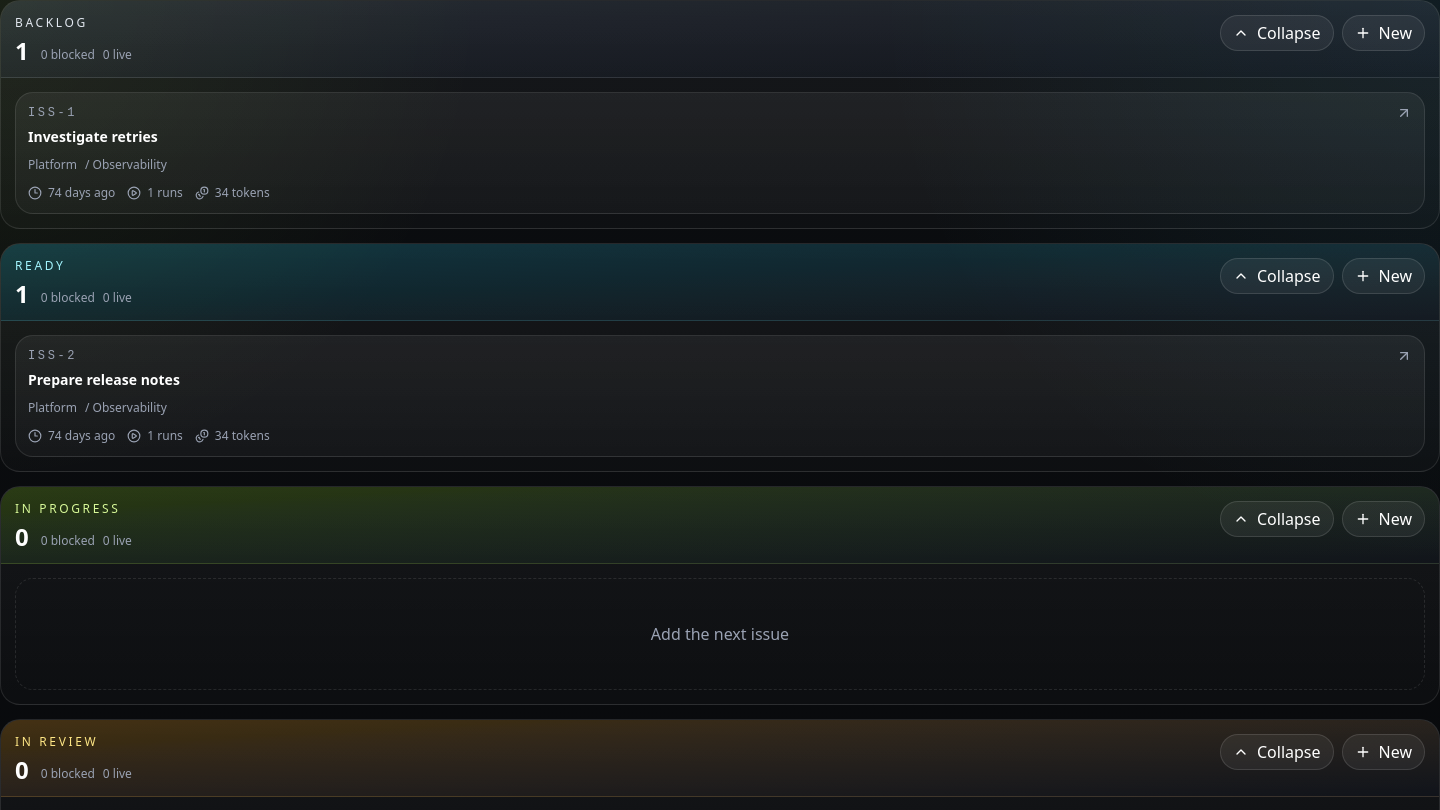
Test: KanbanBoard › collapses and expands grouped status rows independently
Check: the text "Investigate retries" is shown, box [28,127,158,147]
Check: the text "Prepare release notes" is shown, box [28,370,180,390]
Click the button with aria-label "collapse backlog status row" at (1277, 33), box [1220,15,1334,51]
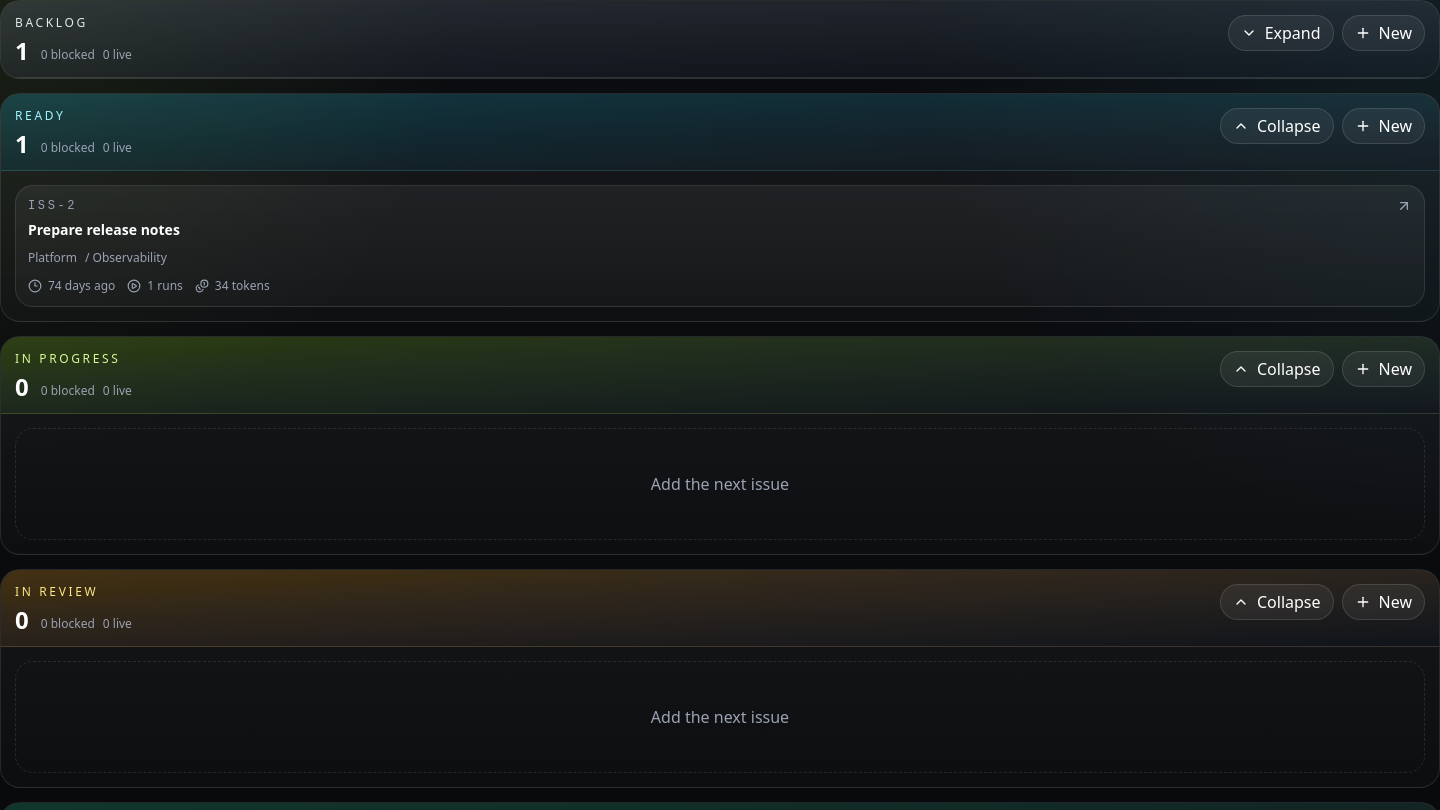
Check: the text "Prepare release notes" is shown, box [28,220,180,240]
Check: the button with aria-label "expand backlog status row" is collapsed
Check: the button "Investigate retries" is gone
Click the button with aria-label "expand backlog status row" at (1281, 33), box [1228,15,1334,51]
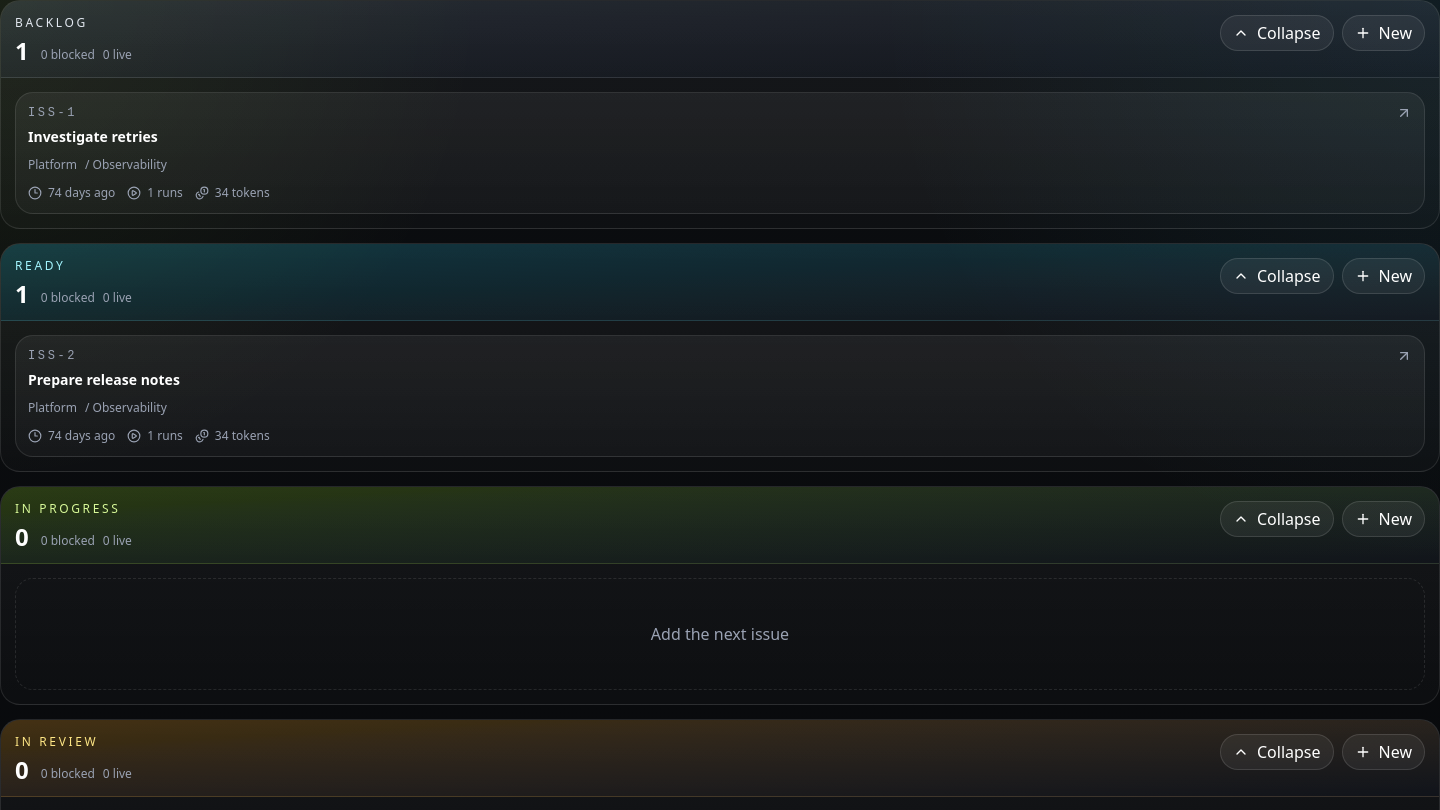
Check: the button with aria-label "collapse backlog status row" is expanded, box [1220,15,1334,51]
Check: the text "Investigate retries" is shown, box [28,127,158,147]
